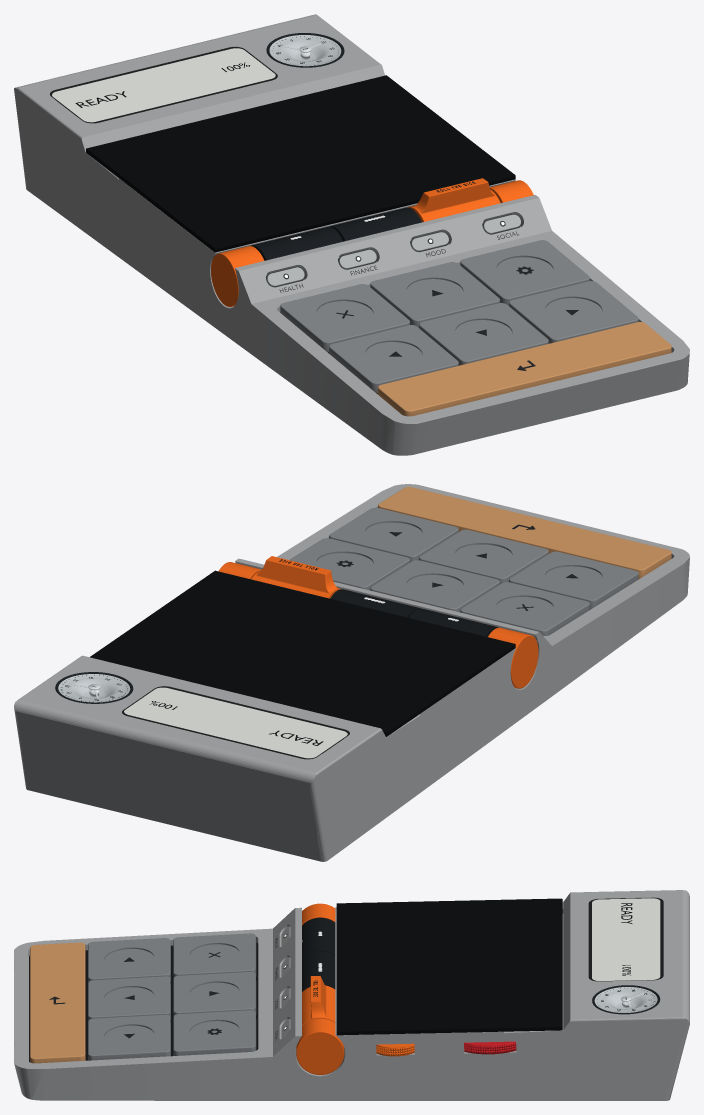
The model's file is aluminium-device-game.glb.
3 views of the same model, one above another, from view 1: azimuth 30°, elevation 25°; view 2: azimuth 150°, elevation 25°; view 3: azimuth 270°, elevation 25° (orthographic). The views are drawn at different scales.
Visible parts, largest first — view 1: Screen • black glass • 96 × 40 × 1 mm, Device • recessed 6 mm channel, Device • hinged display housing, Key • far right • full-size warm orange, E-ink • paper display • two-thirds width, Key • column 2 • lower grey, Key • column 2 • upper grey, Key • column 3 • upper grey, Key • column 4 • lower grey, Key • column 3 • lower grey, Key • column 4 • upper grey, Button • middle 4 • integrated pull fin (+5 smaller); view 2: Device • hinged display housing, Screen • black glass • 96 × 40 × 1 mm, Device • recessed 6 mm channel, Key • far right • full-size warm orange, E-ink • paper display • two-thirds width, Key • column 2 • lower grey, Key • column 2 • upper grey, Key • column 3 • lower grey, Key • column 4 • lower grey, Key • column 3 • upper grey, Key • column 4 • upper grey, Button • middle 4 • integrated pull fin (+5 smaller); view 3: Device • hinged display housing, Screen • black glass • 96 × 40 × 1 mm, Device • recessed 6 mm channel, Key • far right • full-size warm orange, E-ink • paper display • two-thirds width, Key • column 4 • lower grey, Key • column 4 • upper grey, Key • column 3 • upper grey, Key • column 2 • upper grey, Key • column 3 • lower grey, Key • column 2 • lower grey, Button • right end • 5 mm (+9 smaller).
Part boxes in pixels (left/top/right/bottom): Screen • black glass • 96 × 40 × 1 mm: left=86, top=75, right=515, bottom=252; Device • recessed 6 mm channel: left=218, top=195, right=689, bottom=455; Device • hinged display housing: left=14, top=14, right=515, bottom=329; Key • far right • full-size warm orange: left=377, top=322, right=671, bottom=416; E-ink • paper display • two-thirds width: left=52, top=48, right=275, bottom=122; Key • column 2 • lower grey: left=329, top=325, right=458, bottom=392; Key • column 2 • upper grey: left=280, top=284, right=409, bottom=352; Key • column 3 • upper grey: left=370, top=262, right=499, bottom=327; Key • column 4 • lower grey: left=509, top=281, right=638, bottom=343; Key • column 3 • lower grey: left=419, top=303, right=548, bottom=365; Key • column 4 • upper grey: left=460, top=240, right=589, bottom=305; Button • middle 4 • integrated pull fin: left=408, top=178, right=500, bottom=222; Device • hinged display housing: left=14, top=648, right=518, bottom=861; Screen • black glass • 96 × 40 × 1 mm: left=90, top=570, right=515, bottom=736; Device • recessed 6 mm channel: left=235, top=484, right=689, bottom=720; Key • far right • full-size warm orange: left=378, top=487, right=671, bottom=578; E-ink • paper display • two-thirds width: left=124, top=687, right=347, bottom=758; Key • column 2 • lower grey: left=509, top=551, right=638, bottom=609; Key • column 2 • upper grey: left=460, top=582, right=589, bottom=635; Key • column 3 • lower grey: left=419, top=529, right=548, bottom=584; Key • column 4 • lower grey: left=329, top=507, right=458, bottom=562; Key • column 3 • upper grey: left=370, top=560, right=499, bottom=612; Key • column 4 • upper grey: left=289, top=538, right=409, bottom=590; Button • middle 4 • integrated pull fin: left=251, top=556, right=341, bottom=598; Device • hinged display housing: left=331, top=890, right=689, bottom=1100; Screen • black glass • 96 × 40 × 1 mm: left=336, top=898, right=562, bottom=1035; Device • recessed 6 mm channel: left=14, top=907, right=331, bottom=1100; Key • far right • full-size warm orange: left=30, top=942, right=85, bottom=1063; E-ink • paper display • two-thirds width: left=592, top=898, right=660, bottom=980; Key • column 4 • lower grey: left=88, top=1014, right=170, bottom=1060; Key • column 4 • upper grey: left=173, top=1010, right=256, bottom=1055; Key • column 3 • upper grey: left=173, top=972, right=256, bottom=1015; Key • column 2 • upper grey: left=173, top=933, right=256, bottom=977; Key • column 3 • lower grey: left=88, top=976, right=170, bottom=1020; Key • column 2 • lower grey: left=88, top=938, right=170, bottom=981; Button • right end • 5 mm: left=296, top=1018, right=344, bottom=1074.
Bounding box in the file's own units: 0.0557 × 0.0165 × 0.1213.
